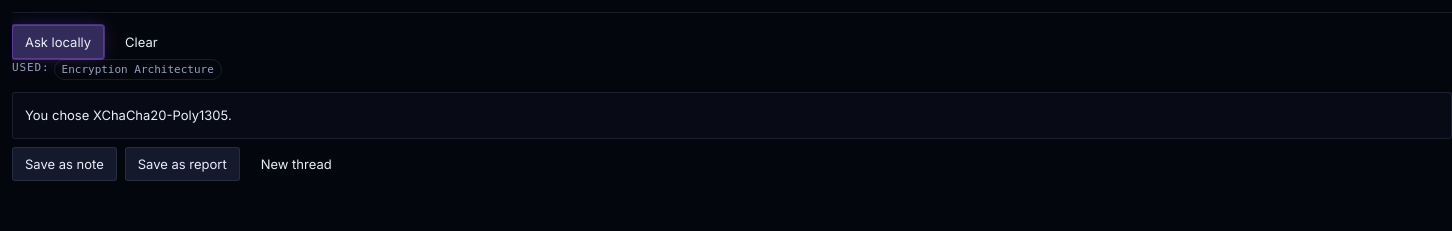
ResponsePanel — save and thread › saves the visible answer as a report with its execution id
What coordinates should you click on to do the following:
click the button "Save as report"
I would click on:
 (182, 164)
Its box is [125, 147, 240, 181].
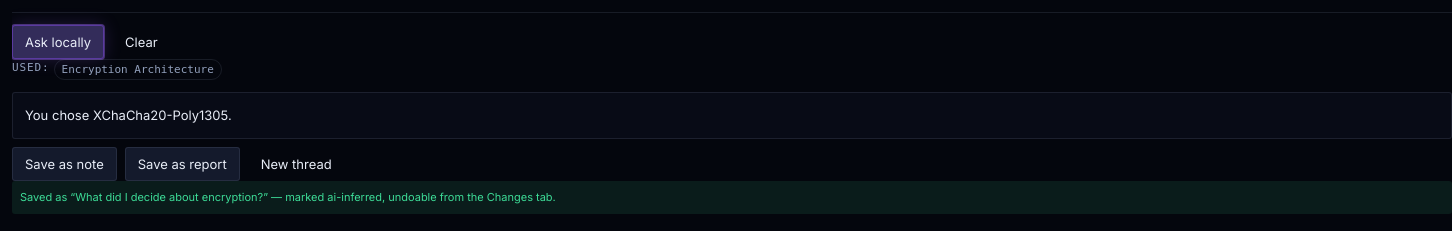
Expected: the text "You chose XChaCha20-Poly1305." is shown, [12, 92, 1451, 139]
Now the message shows "Saved as", box [20, 190, 75, 204]
